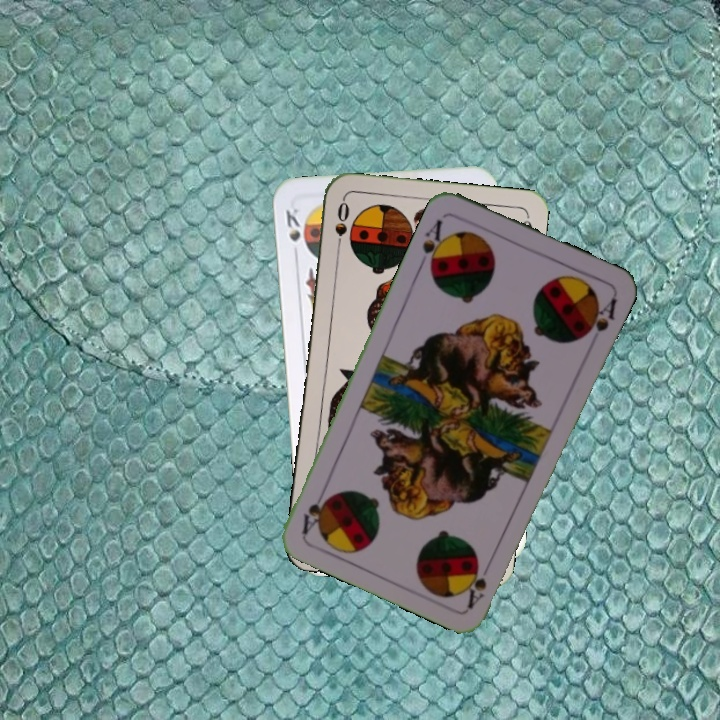SA: (415, 215, 451, 273), (463, 560, 490, 611)
SK: (282, 202, 303, 261)
SO: (330, 196, 352, 256)
